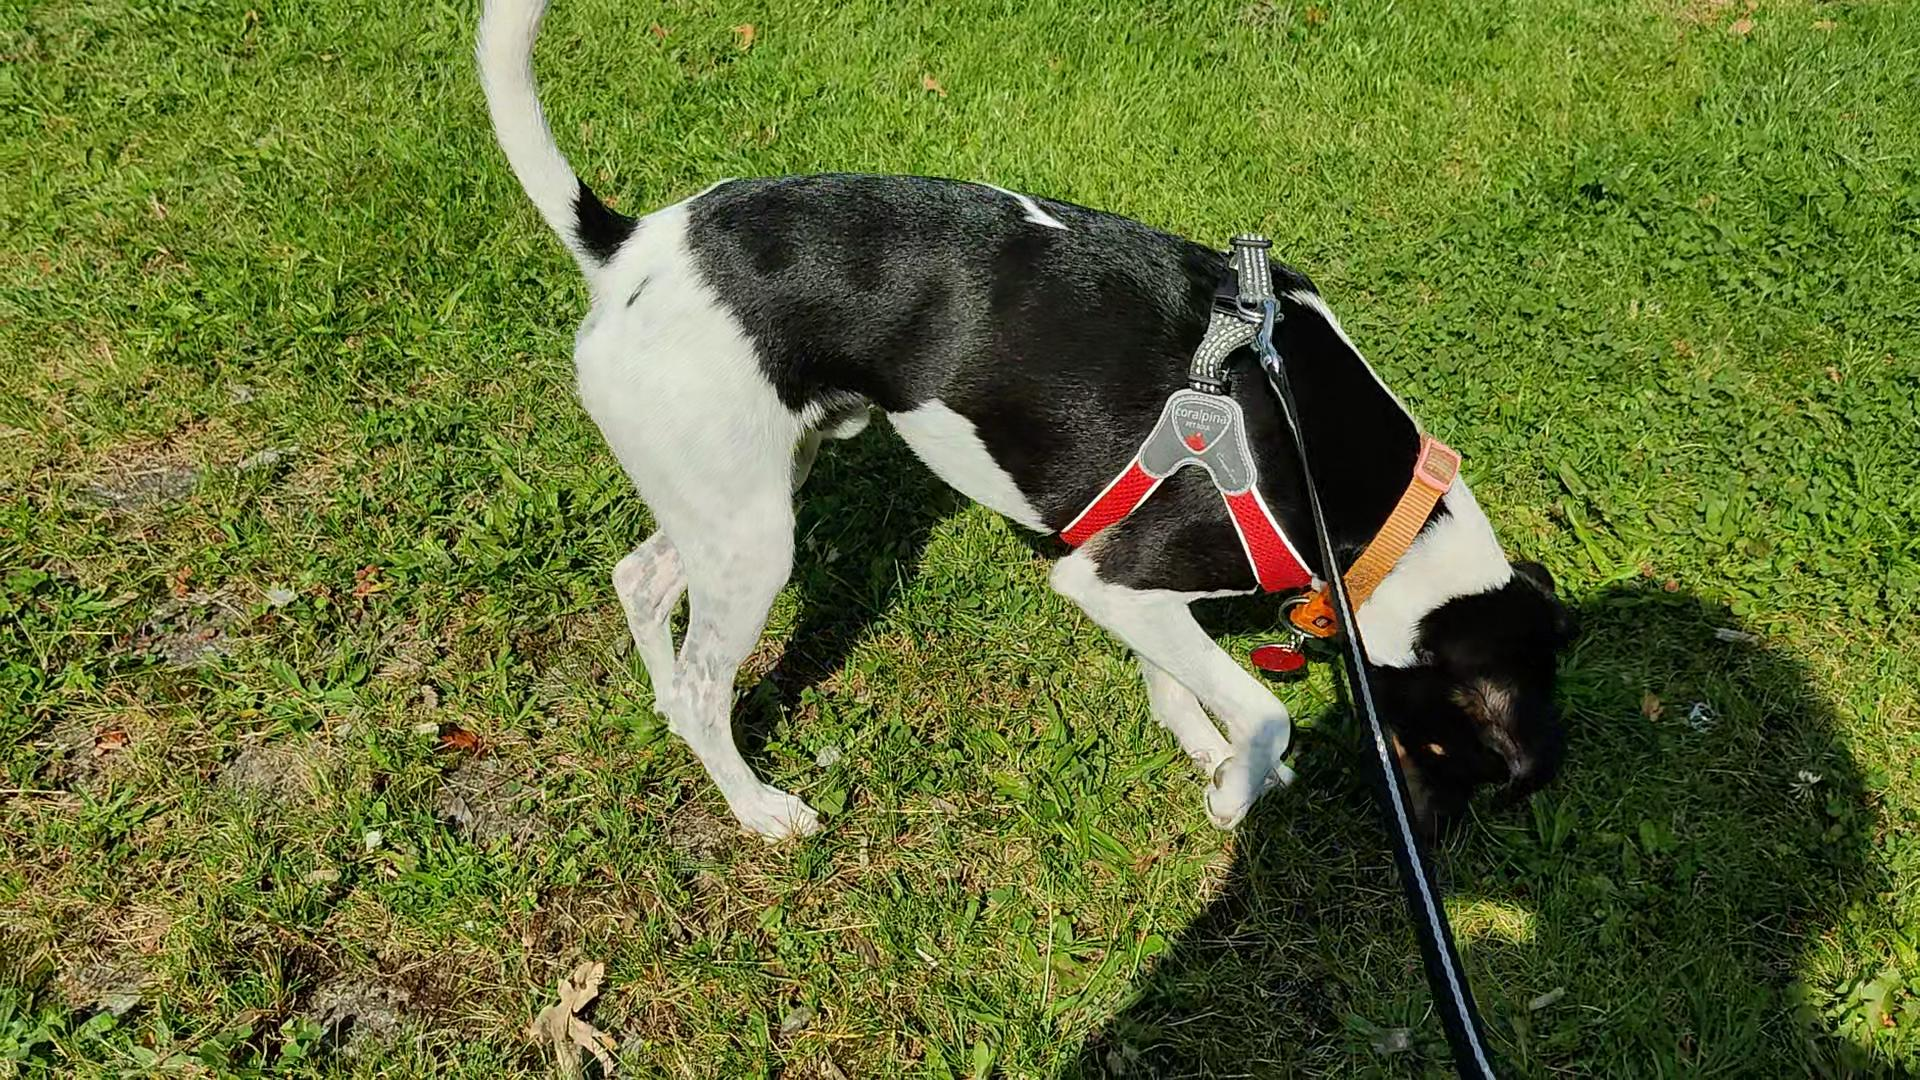Dog: (465, 0, 1586, 849)
